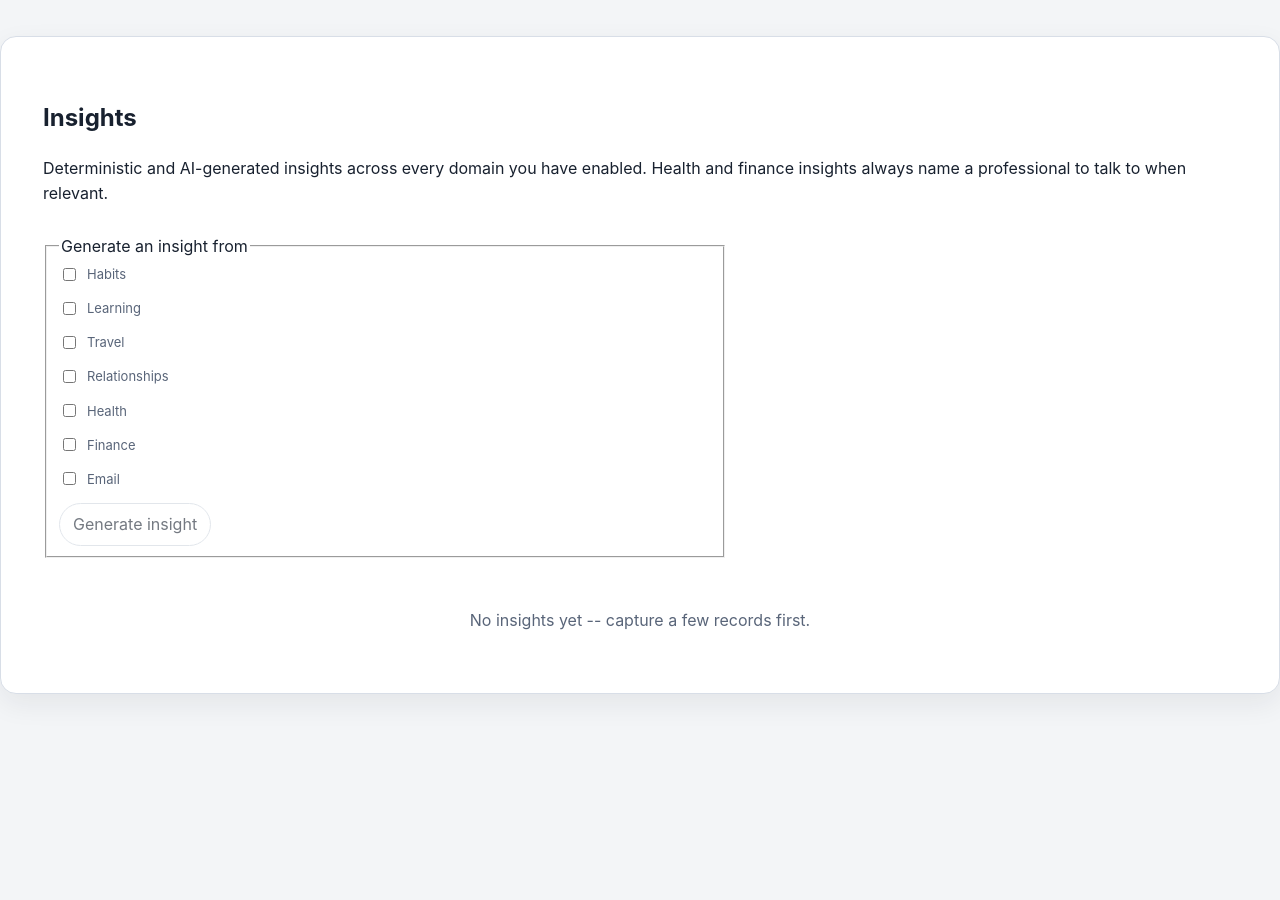
Scenario: InsightsPanel › shows the fail-open unavailable message with its error_code
Expected: the text "No insights yet -- capture a few records first." is shown, x1=470 y1=610 x2=810 y2=630
Click the checkbox labelled "Health" at (70, 411), box x1=63 y1=404 x2=76 y2=417
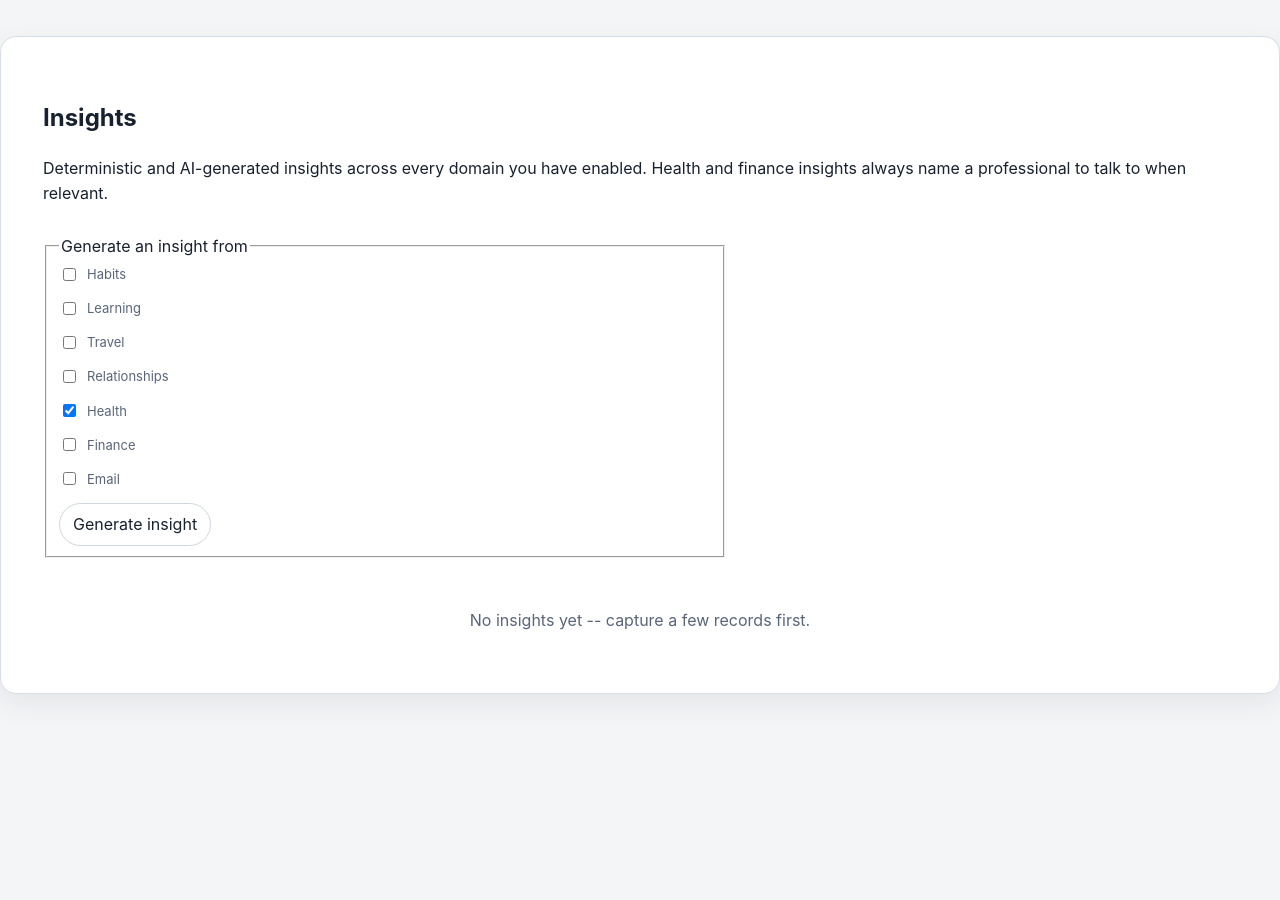
Click the button "Generate insight" at (135, 524), box x1=59 y1=503 x2=211 y2=546
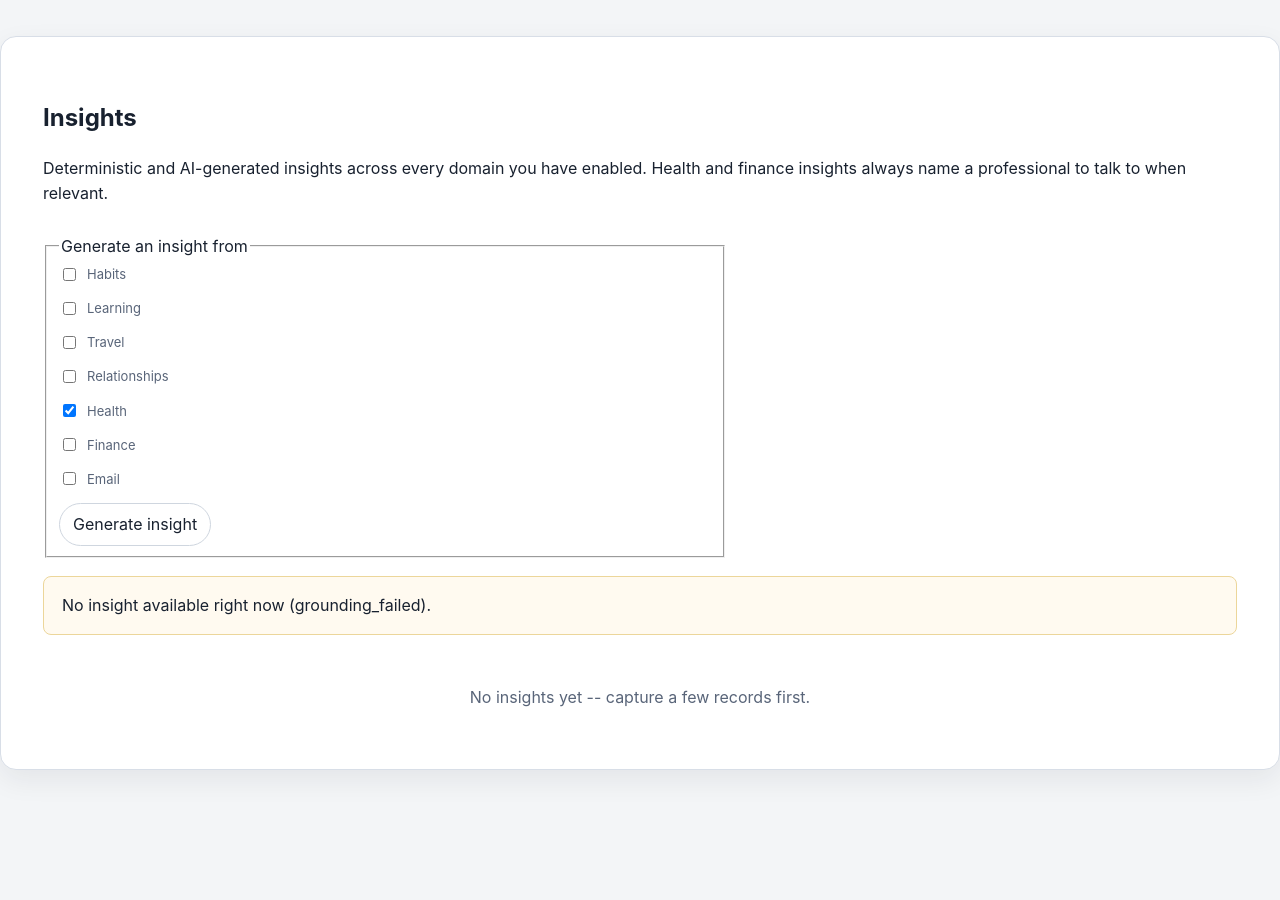
Now the text "No insight available right now (grounding_failed)." is shown, box x1=43 y1=576 x2=1237 y2=635
